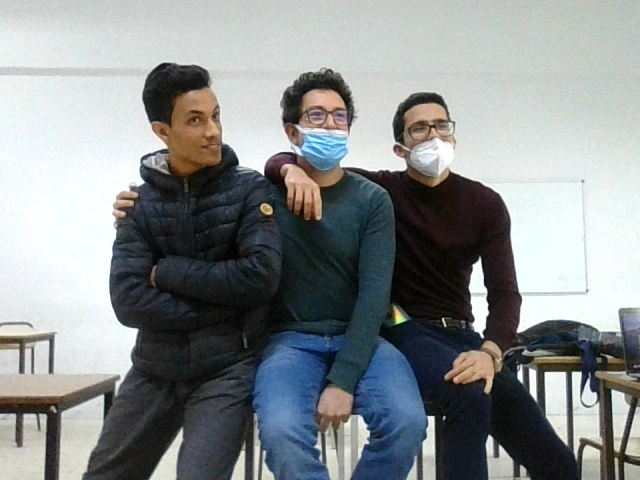mask_weared_incorrect: (270, 64, 360, 176), (384, 88, 466, 185)
without_mask: (146, 69, 237, 169)
